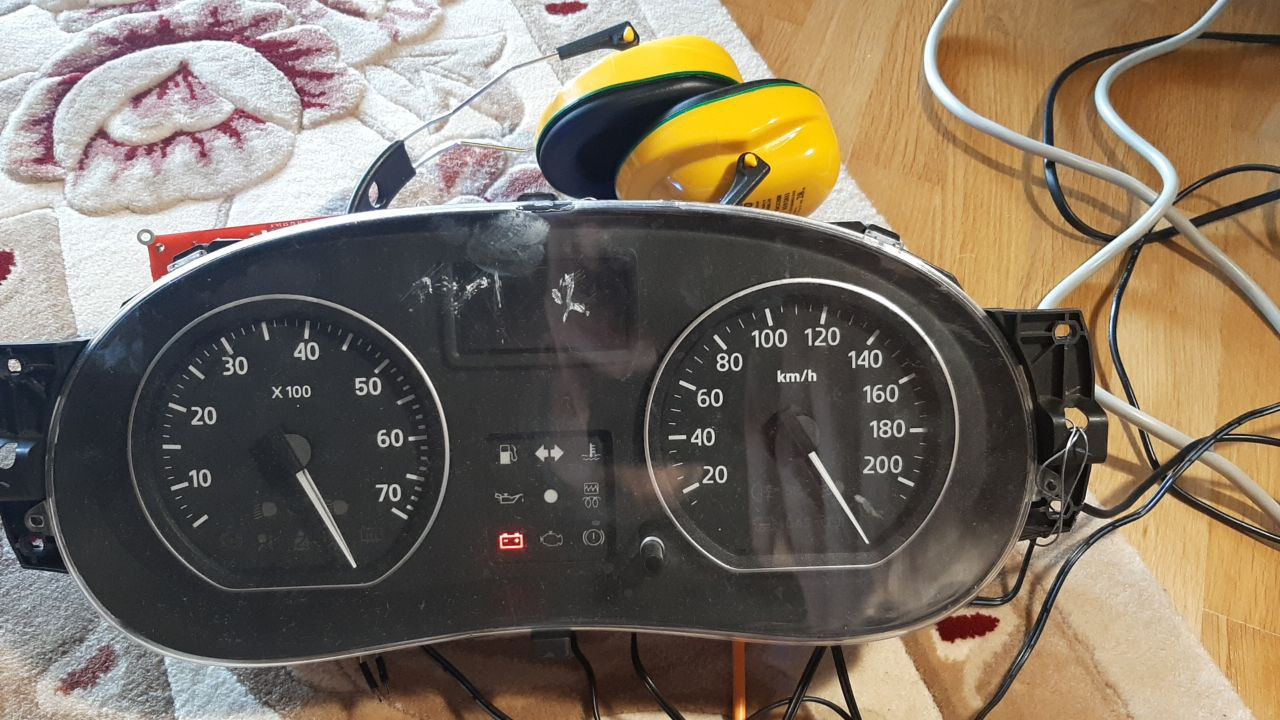accumulator: (490, 531, 529, 555)
